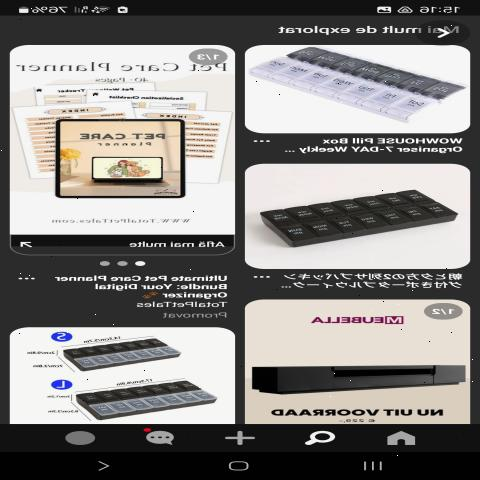PillBox: (246, 47, 467, 123), (257, 184, 460, 250), (52, 371, 220, 419), (51, 333, 180, 371)
